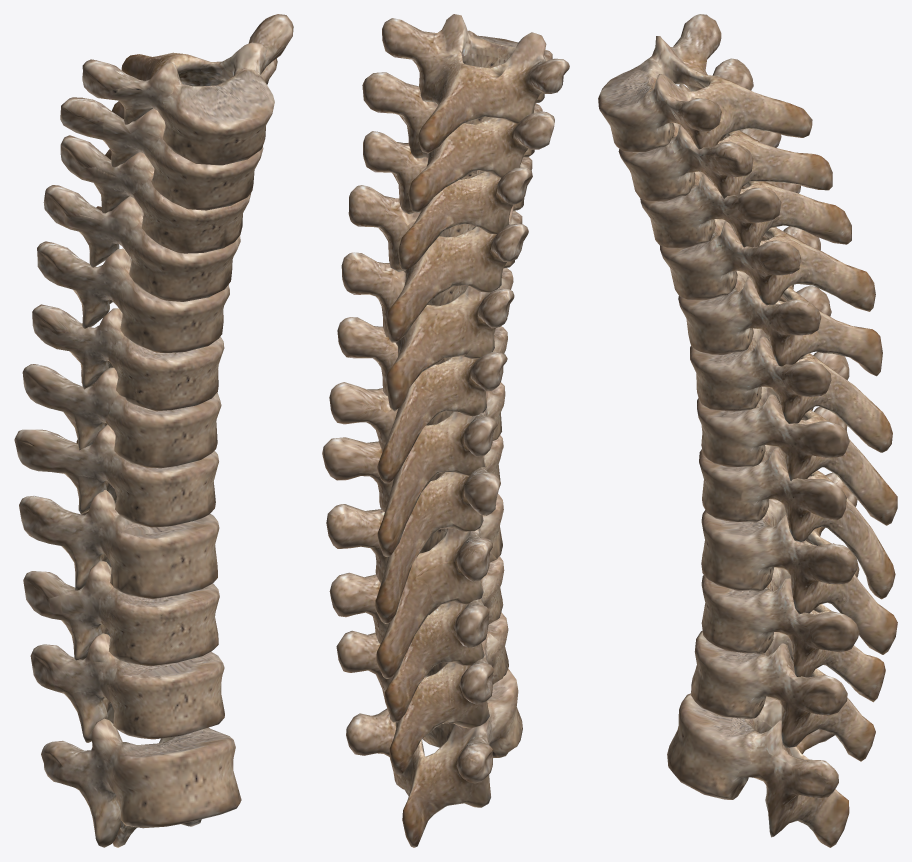
The model's file is Legs.212.obj.
3 views of the same model, side by side, from view 1: azimuth 30°, elevation 25°; view 2: azimuth 150°, elevation 25°; view 3: azimuth 270°, elevation 25° (orthographic). The views are drawn at different scales.
Parts seen in each view (by area): view 1: Legs.212_Arms.212; view 2: Legs.212_Arms.212; view 3: Legs.212_Arms.212.
Boxes of the visible parts, x1=… form: Legs.212_Arms.212: x1=14, y1=14, x2=293, y2=847; Legs.212_Arms.212: x1=322, y1=14, x2=569, y2=847; Legs.212_Arms.212: x1=598, y1=14, x2=897, y2=847.
Size of the model in its own units: 0.389 by 1.5 by 0.5138.
